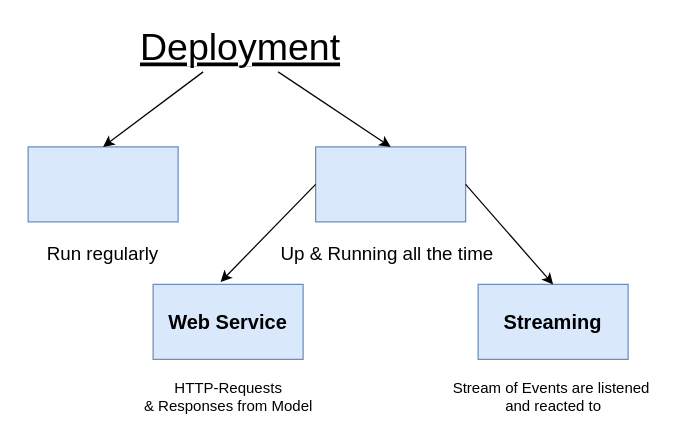
The diagram is 686 pixels wide and 443 high, and some of its shapes have lost their labels. The centre of each missing label's shape, as x and y in pixels:
"Batch Offline" belongs at pixel 102 184.
"Online" belongs at pixel 390 184.
